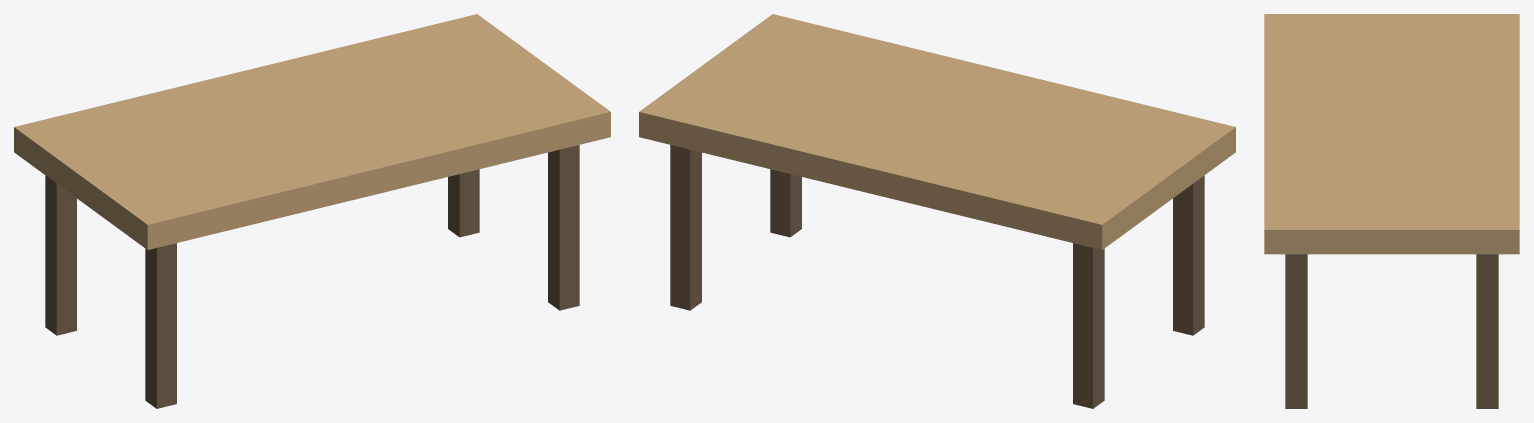
The picture shows the model from 3 angles, left to right: view 1: azimuth 30°, elevation 25°; view 2: azimuth 150°, elevation 25°; view 3: azimuth 270°, elevation 25°; orthographic projection. The views are drawn at different scales.
Bounding box in the file's own units: 2.3 × 0.935 × 1.15.
